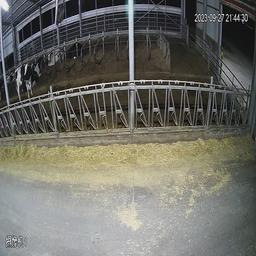cow: (9, 54, 34, 109), (46, 40, 62, 74), (67, 40, 85, 63)
